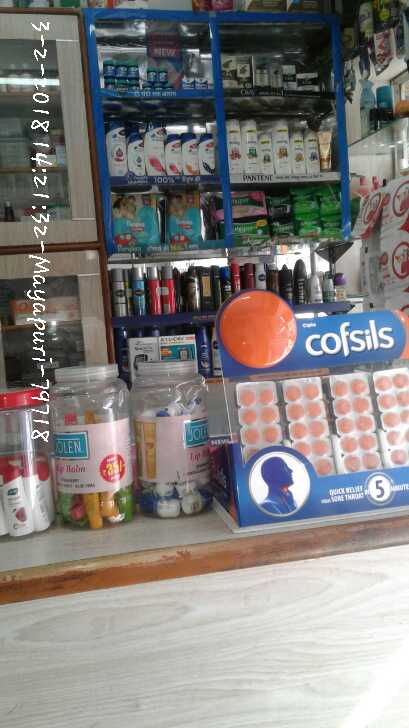vicks: (103, 56, 178, 97)
